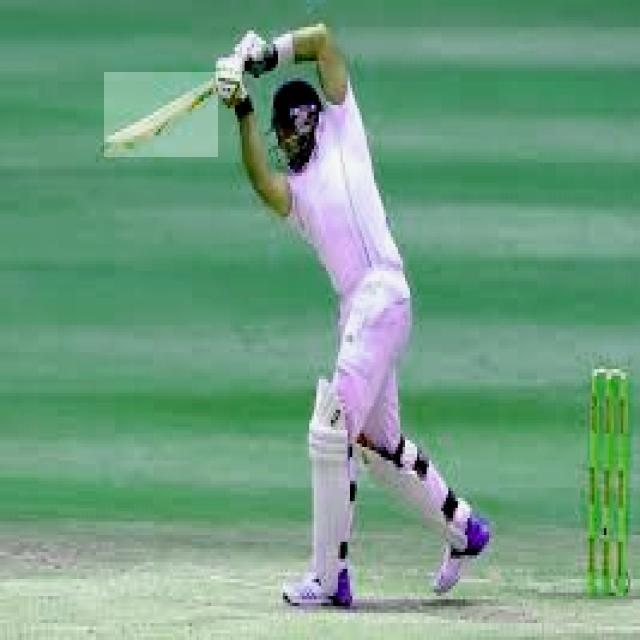bat: (106, 71, 217, 158)
toe: (99, 135, 122, 159)
